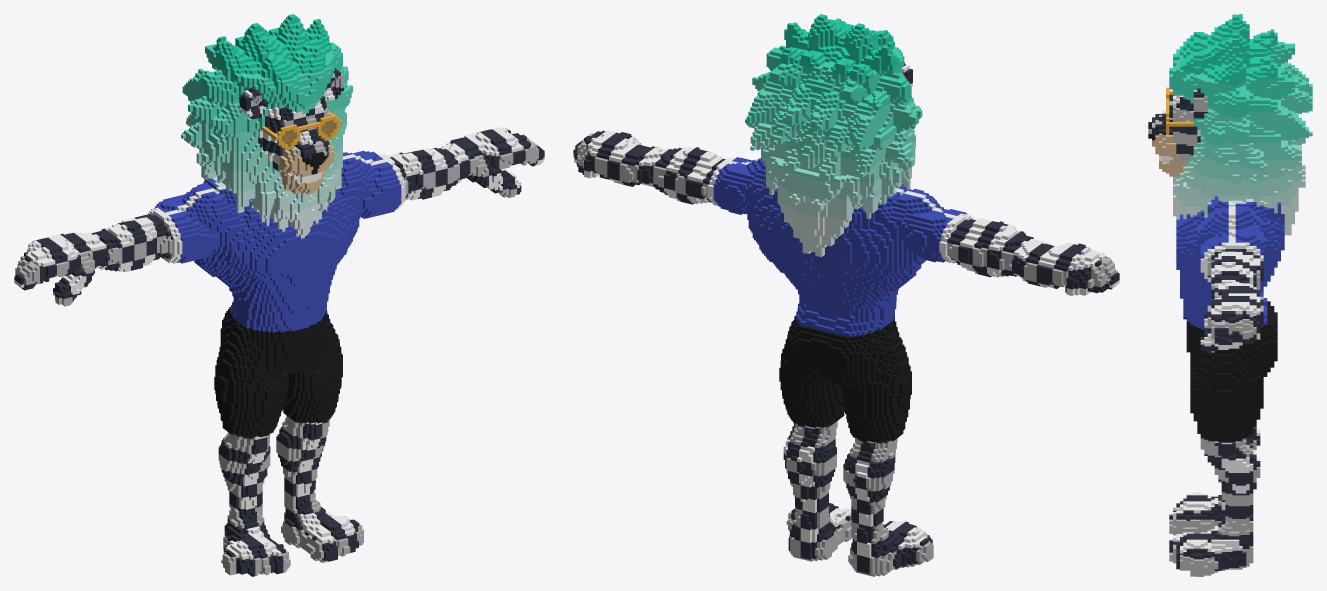
File: 535-CY54orf2.glb
3 views of the same model, side by side, from view 1: azimuth 30°, elevation 25°; view 2: azimuth 150°, elevation 25°; view 3: azimuth 270°, elevation 25° (orthographic). The views are drawn at different scales.
Visible parts, largest first — view 1: big_smile; view 2: big_smile; view 3: big_smile.
Boxes of the visible parts, bbox=[...] form: big_smile: bbox=[14, 14, 544, 576]; big_smile: bbox=[573, 14, 1119, 576]; big_smile: bbox=[1148, 14, 1312, 576].
Size of the model in its own units: 17.2 by 16.5 by 4.7.
Materials: 5 (5 with a texture image).
